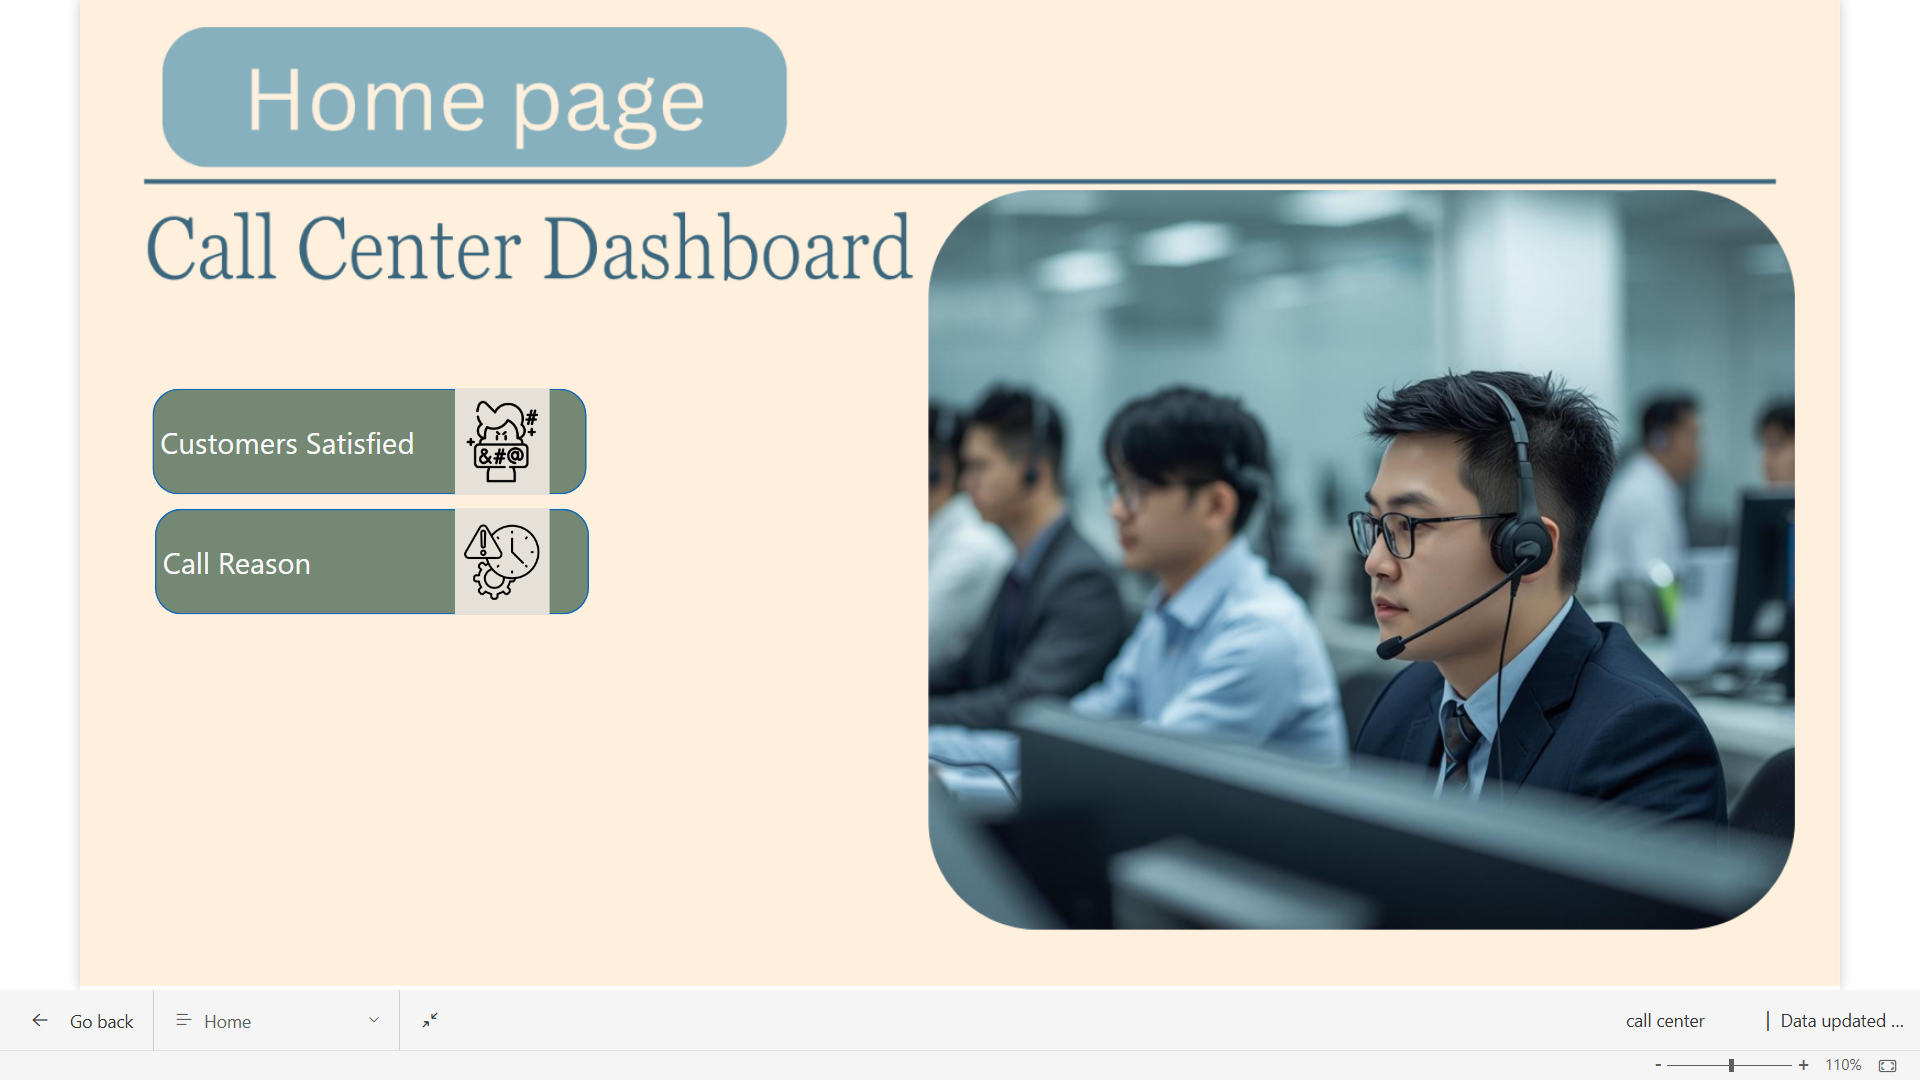

What the dashboard file says about the page in this screenshot:
{"tool":"powerbi","page":{"name":"Home","canvas":[1280,720],"ordinal":0},"visuals":[{"type":"shape","box":[52.9,282.9,315.6,76.8],"z":0,"group":"g1"},{"type":"shape","box":[54.3,370,315.6,76.8],"z":0,"group":"g2"},{"type":"image","box":[272.5,282.9,68.6,76.8],"z":1,"group":"g1"},{"type":"group","id":"g1","title":"Group 1","box":[52.9,282.9,315.7,77.1],"z":2},{"type":"image","box":[272.9,370,68.6,77.1],"z":3,"group":"g2"},{"type":"group","id":"g2","title":"Group 2","box":[54.3,370,315.6,77.1],"z":4}]}

Visuals, with their boxes on the page's 1280x720 design canvas (x1, y1, x2, y2). These are canvas units, not pixel positions in the 1920x1080 screenshot, which may show the page scaled, cropped or inside an application window:
shape: {"x1": 53, "y1": 283, "x2": 368, "y2": 360}
shape: {"x1": 54, "y1": 370, "x2": 370, "y2": 447}
image: {"x1": 272, "y1": 283, "x2": 341, "y2": 360}
"Group 1" group: {"x1": 53, "y1": 283, "x2": 369, "y2": 360}
image: {"x1": 273, "y1": 370, "x2": 342, "y2": 447}
"Group 2" group: {"x1": 54, "y1": 370, "x2": 370, "y2": 447}
